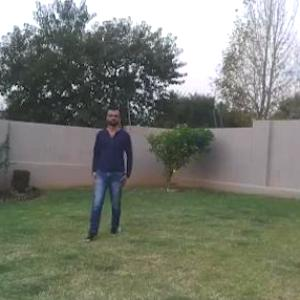follow: (92, 104, 129, 229)
